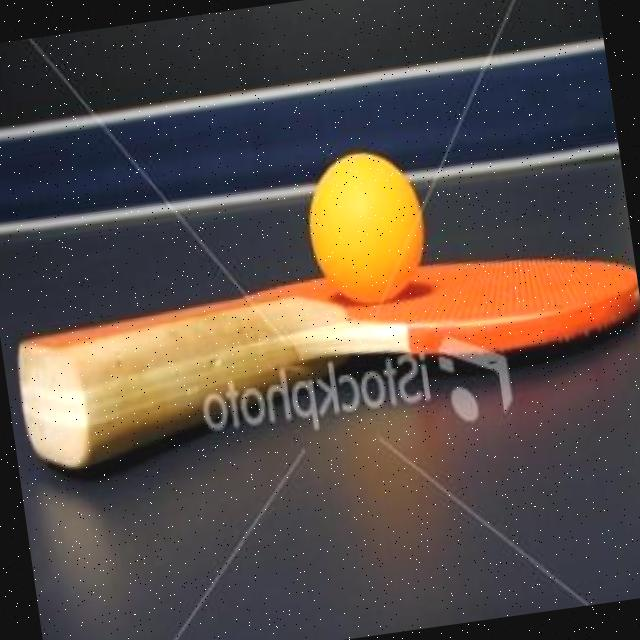ping-pong-ball: (293, 140, 441, 320)
